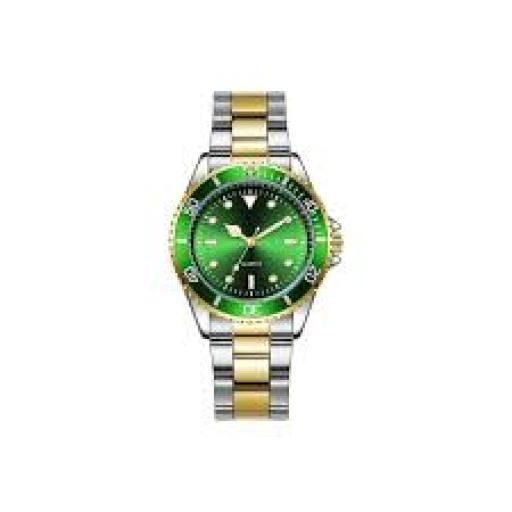KolSaati: (150, 67, 354, 435)
